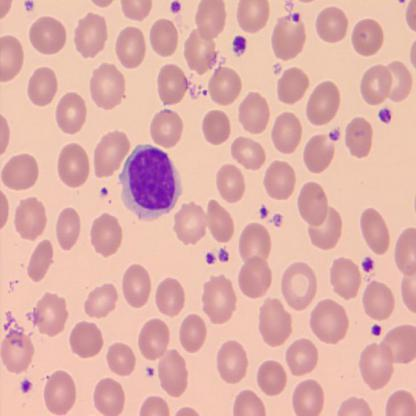Lymphocyte: (118, 142, 183, 223)
